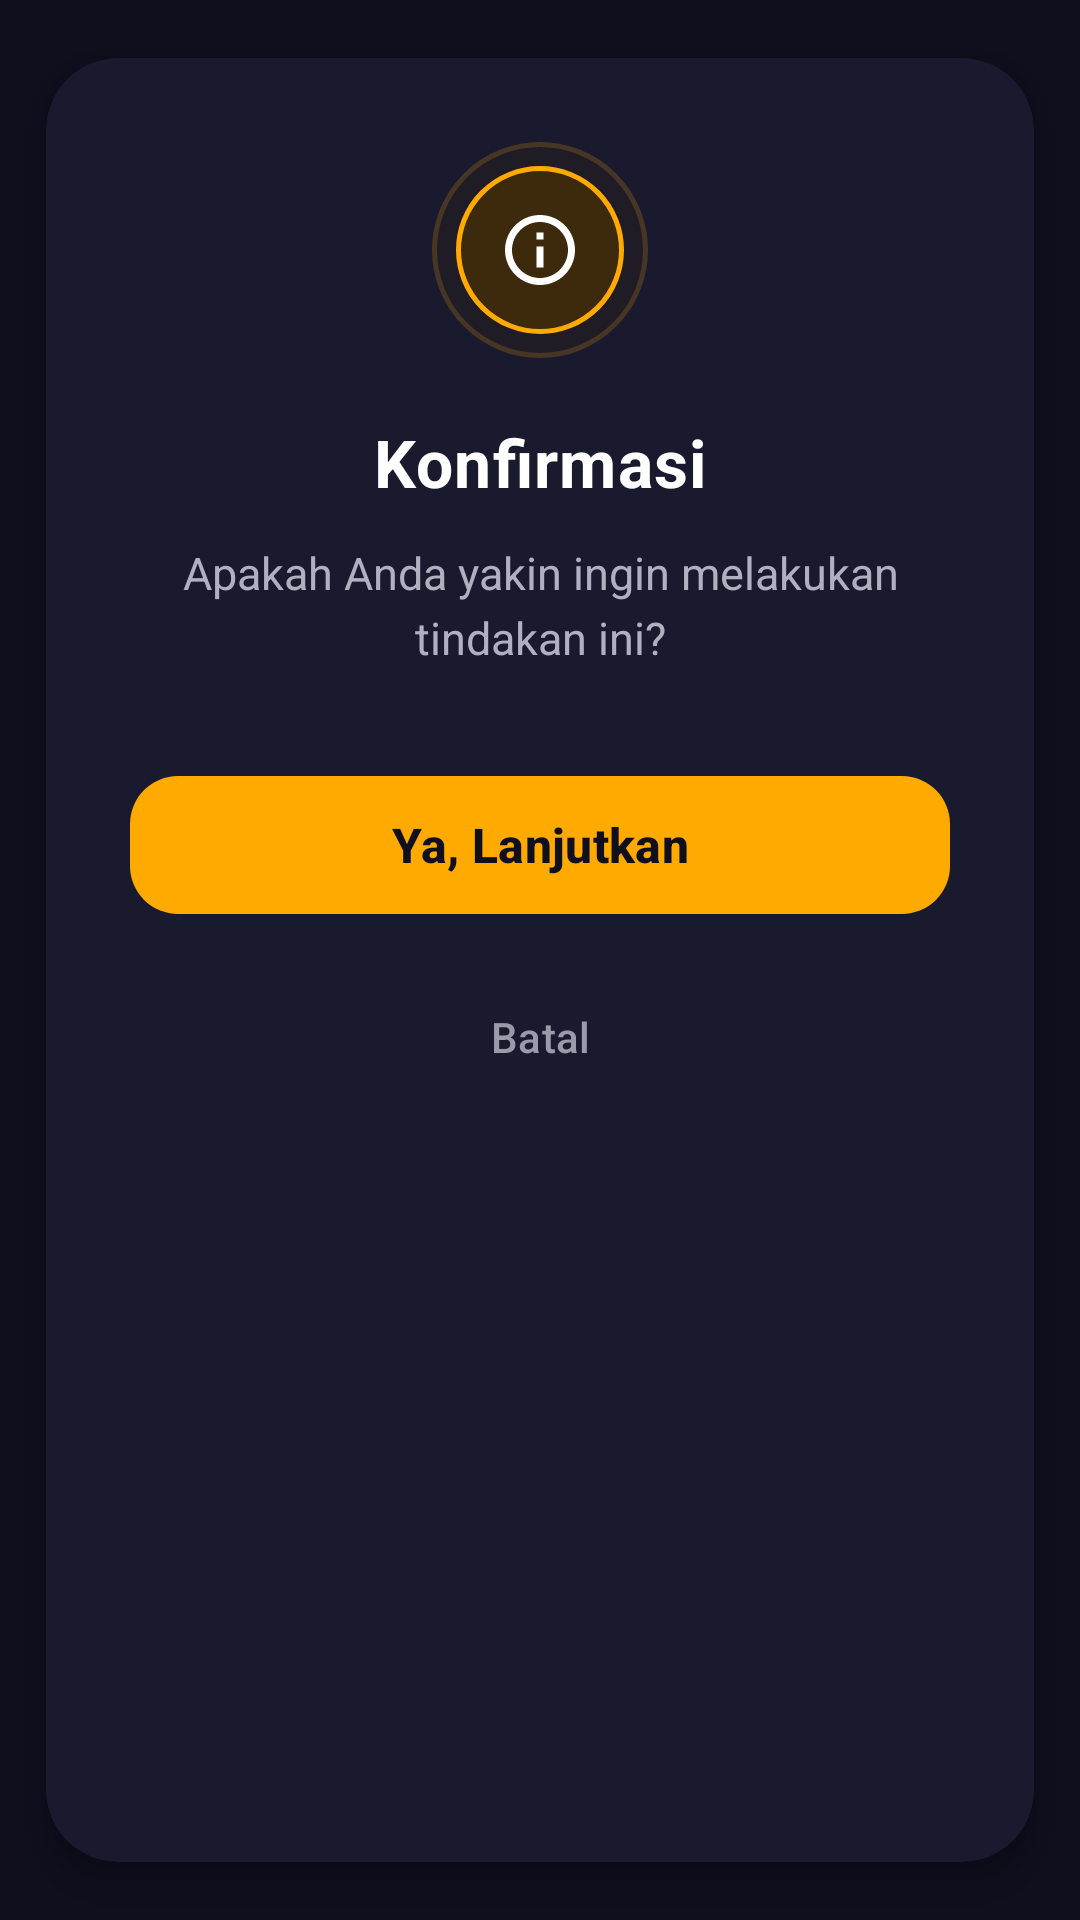

Named icons in this screenshot (1080px x 1920px) and their bounding boxes, BBox(x1, y1, x2, y2):
info: BBox(505, 215, 575, 285)
